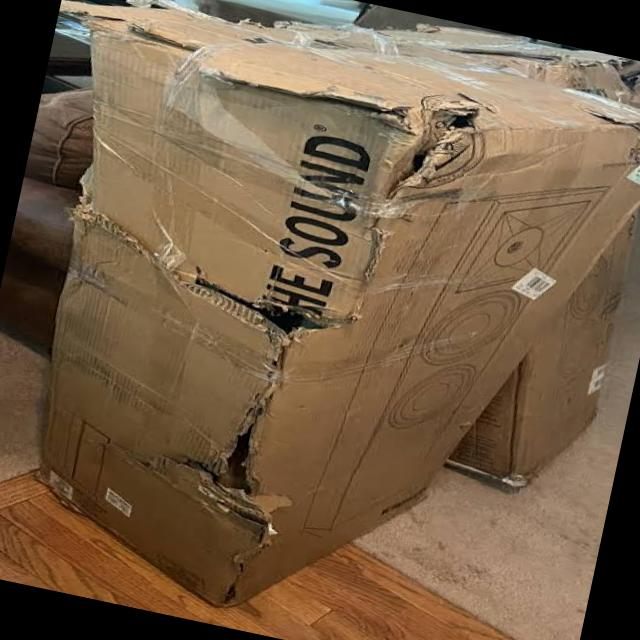package_damage: (0, 0, 479, 636), (548, 78, 640, 199)
